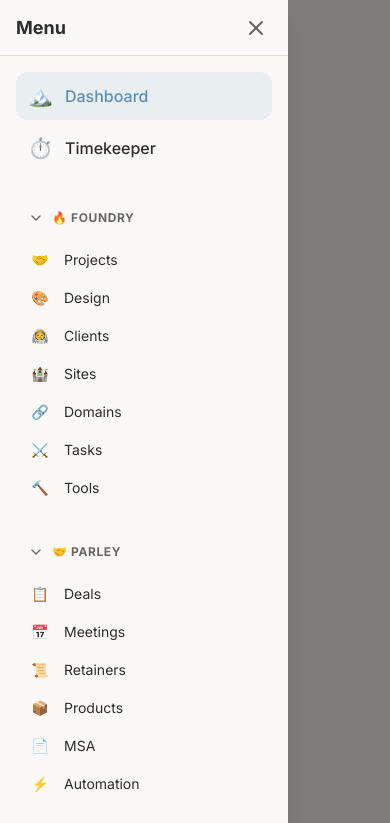
Test case: MobileNav › collapses and expands a section when its header is tapped
expect the text "Sites" is shown: met, box [64,364,96,384]
Click the button "🔥 Foundry" at (144, 218), box [16,196,272,240]
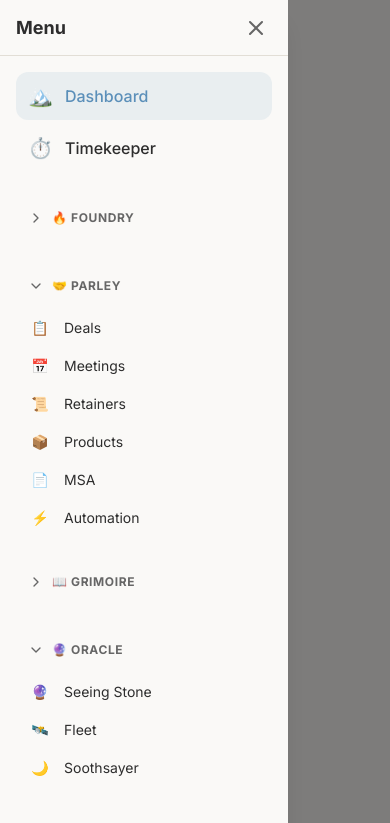
expect the link "Sites" is gone: met
Click the button "🔥 Foundry" at (144, 218), box [16,196,272,240]
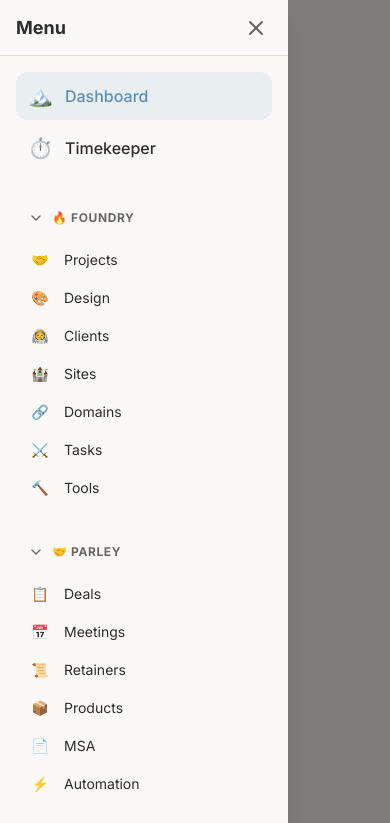
expect the text "Sites" is shown: met, box [64,364,96,384]
